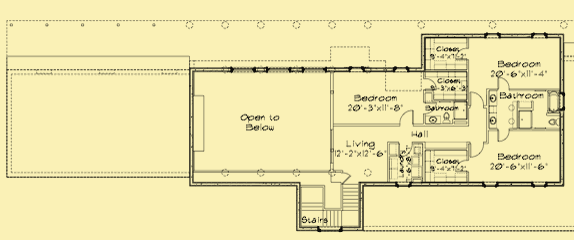door: (397, 108, 415, 128), (467, 89, 486, 107), (495, 74, 513, 91), (469, 140, 485, 157), (493, 127, 510, 142), (341, 171, 354, 183)
large sink: (547, 115, 560, 128), (441, 109, 451, 125)
small sink: (424, 114, 442, 126), (488, 90, 498, 108), (487, 112, 497, 128)
stairs: (298, 183, 363, 229)
tub: (547, 90, 560, 113)
windows: (361, 64, 396, 74), (322, 65, 353, 75), (287, 64, 306, 76), (251, 65, 271, 76)
